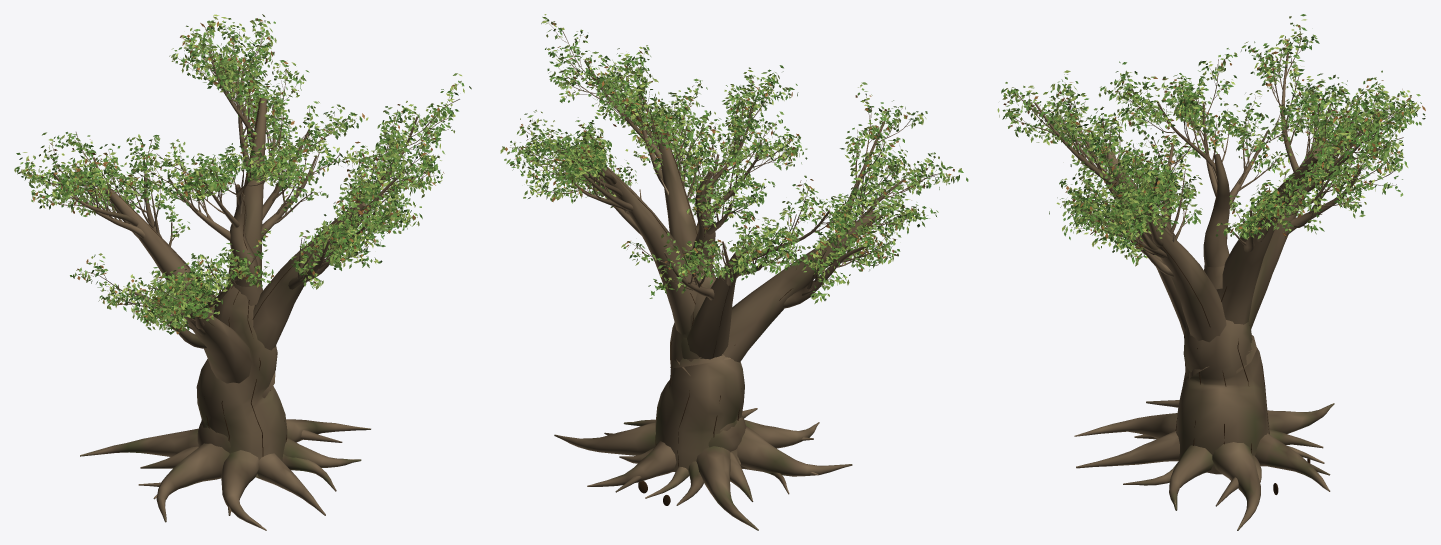
The model's file is ancient_tree_06_lod1.glb.
3 views of the same model, side by side, from view 1: azimuth 30°, elevation 25°; view 2: azimuth 150°, elevation 25°; view 3: azimuth 270°, elevation 25° (orthographic). The views are drawn at different scales.
Visible parts, largest first — view 1: AncientTreeWood_LOD1, AncientLeaves_LOD1, FineBranches_LOD1, DirectedBarkGrooves_LOD1; view 2: AncientTreeWood_LOD1, AncientLeaves_LOD1, FineBranches_LOD1, DirectedBarkGrooves_LOD1; view 3: AncientTreeWood_LOD1, AncientLeaves_LOD1, FineBranches_LOD1, DirectedBarkGrooves_LOD1.
Boxes of the visible parts, x1,y1,x2,y2 form: AncientTreeWood_LOD1: (28,27,459,530); AncientLeaves_LOD1: (14,14,471,334); FineBranches_LOD1: (20,21,458,326); DirectedBarkGrooves_LOD1: (111,98,354,456); AncientTreeWood_LOD1: (522,28,941,530); AncientLeaves_LOD1: (500,14,968,303); FineBranches_LOD1: (510,23,956,293); DirectedBarkGrooves_LOD1: (597,134,875,466); AncientTreeWood_LOD1: (1006,37,1406,530); AncientLeaves_LOD1: (997,14,1425,266); FineBranches_LOD1: (1006,27,1415,256); DirectedBarkGrooves_LOD1: (1111,142,1318,453).
Bounding box in the file's own units: 21.01 × 20.73 × 19.46.
